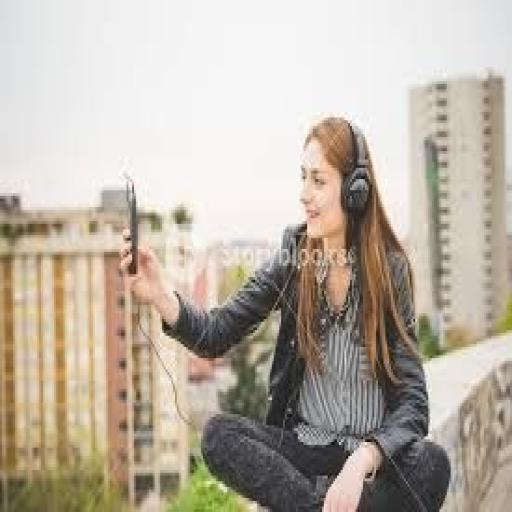listening_to_music: (118, 112, 454, 509)
